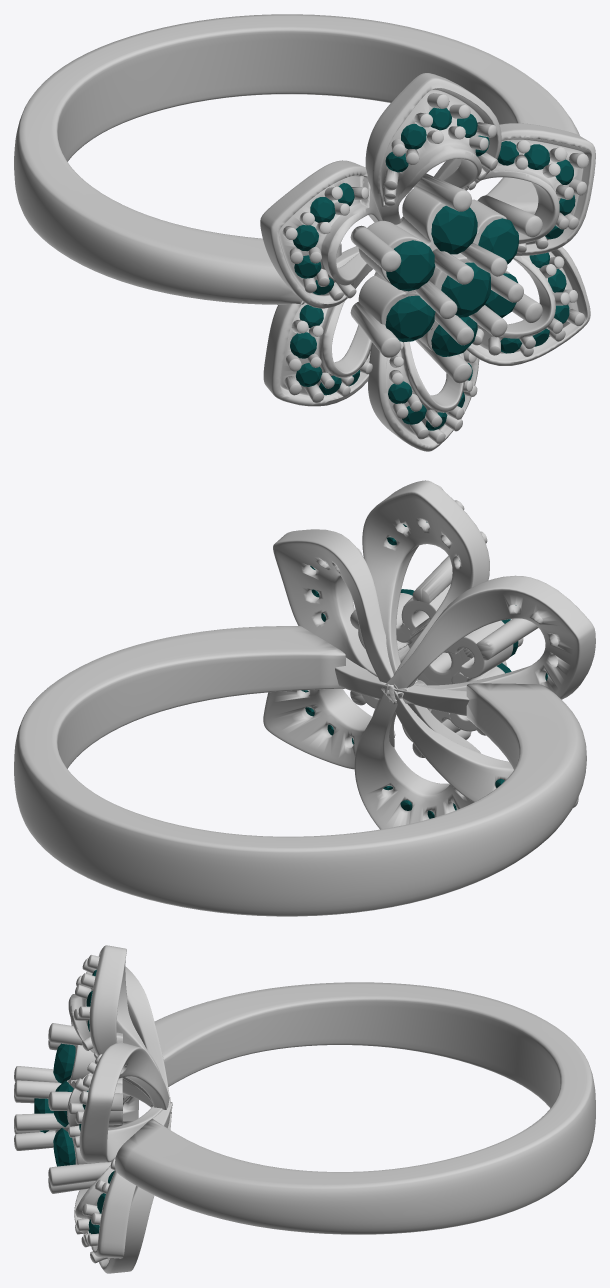
File: demo061.obj
The picture shows the model from 3 angles, top to bottom: view 1: azimuth 30°, elevation 25°; view 2: azimuth 150°, elevation 25°; view 3: azimuth 270°, elevation 25°; orthographic projection. The views are drawn at different scales.
Visible parts, largest first — view 1: metal0, jewel6, jewel5, jewel4, jewel37, jewel1, jewel3, jewel20; view 2: metal0; view 3: metal0, jewel6, jewel2.
Boxes of the visible parts, bbox=[...] form: metal0: bbox=[14, 14, 595, 451]; jewel6: bbox=[431, 205, 477, 254]; jewel5: bbox=[386, 240, 435, 291]; jewel4: bbox=[385, 295, 435, 342]; jewel37: bbox=[441, 262, 490, 317]; jewel1: bbox=[478, 218, 518, 264]; jewel3: bbox=[431, 316, 477, 356]; jewel20: bbox=[290, 332, 316, 358]; metal0: bbox=[14, 480, 595, 916]; metal0: bbox=[14, 945, 595, 1273]; jewel6: bbox=[53, 1043, 75, 1083]; jewel2: bbox=[53, 1128, 75, 1166].
Bounding box in the file's own units: 216 × 157 × 253.
